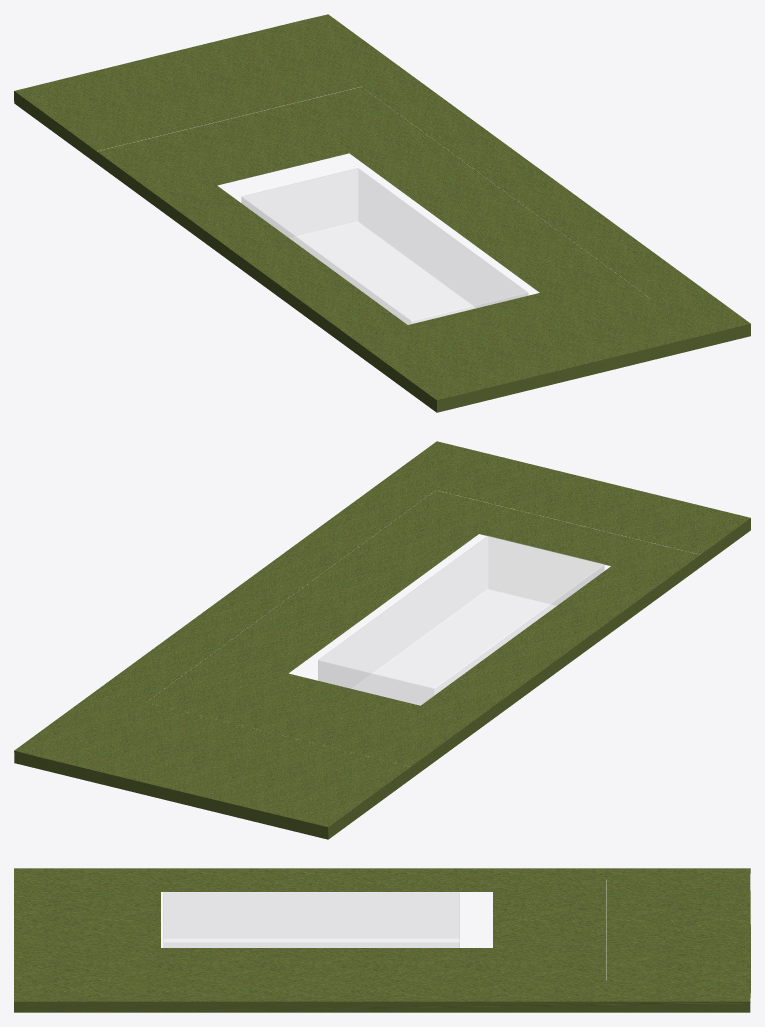
File: pool.glb
3 renders of one model, top to bottom at view 1: azimuth 30°, elevation 25°; view 2: azimuth 150°, elevation 25°; view 3: azimuth 270°, elevation 25°, orthographic. The views are drawn at different scales.
Parts seen in each view (by area): view 1: Grass.001, Grass.003, Pool water; view 2: Grass.001, Grass.003, Pool water; view 3: Grass.001, Grass.003, Pool water.
Part boxes in pixels (x1=…): Grass.001: x1=14, y1=14, x2=750, y2=412; Grass.003: x1=97, y1=87, x2=650, y2=363; Pool water: x1=241, y1=168, x2=527, y2=324; Grass.001: x1=14, y1=441, x2=750, y2=839; Grass.003: x1=146, y1=490, x2=699, y2=766; Pool water: x1=318, y1=536, x2=604, y2=705; Grass.001: x1=14, y1=868, x2=750, y2=1012; Grass.003: x1=102, y1=868, x2=606, y2=980; Pool water: x1=163, y1=892, x2=459, y2=947.
Size of the model in its own units: 13.98 by 2.31 by 32.62.
2 materials, 1 textured.
